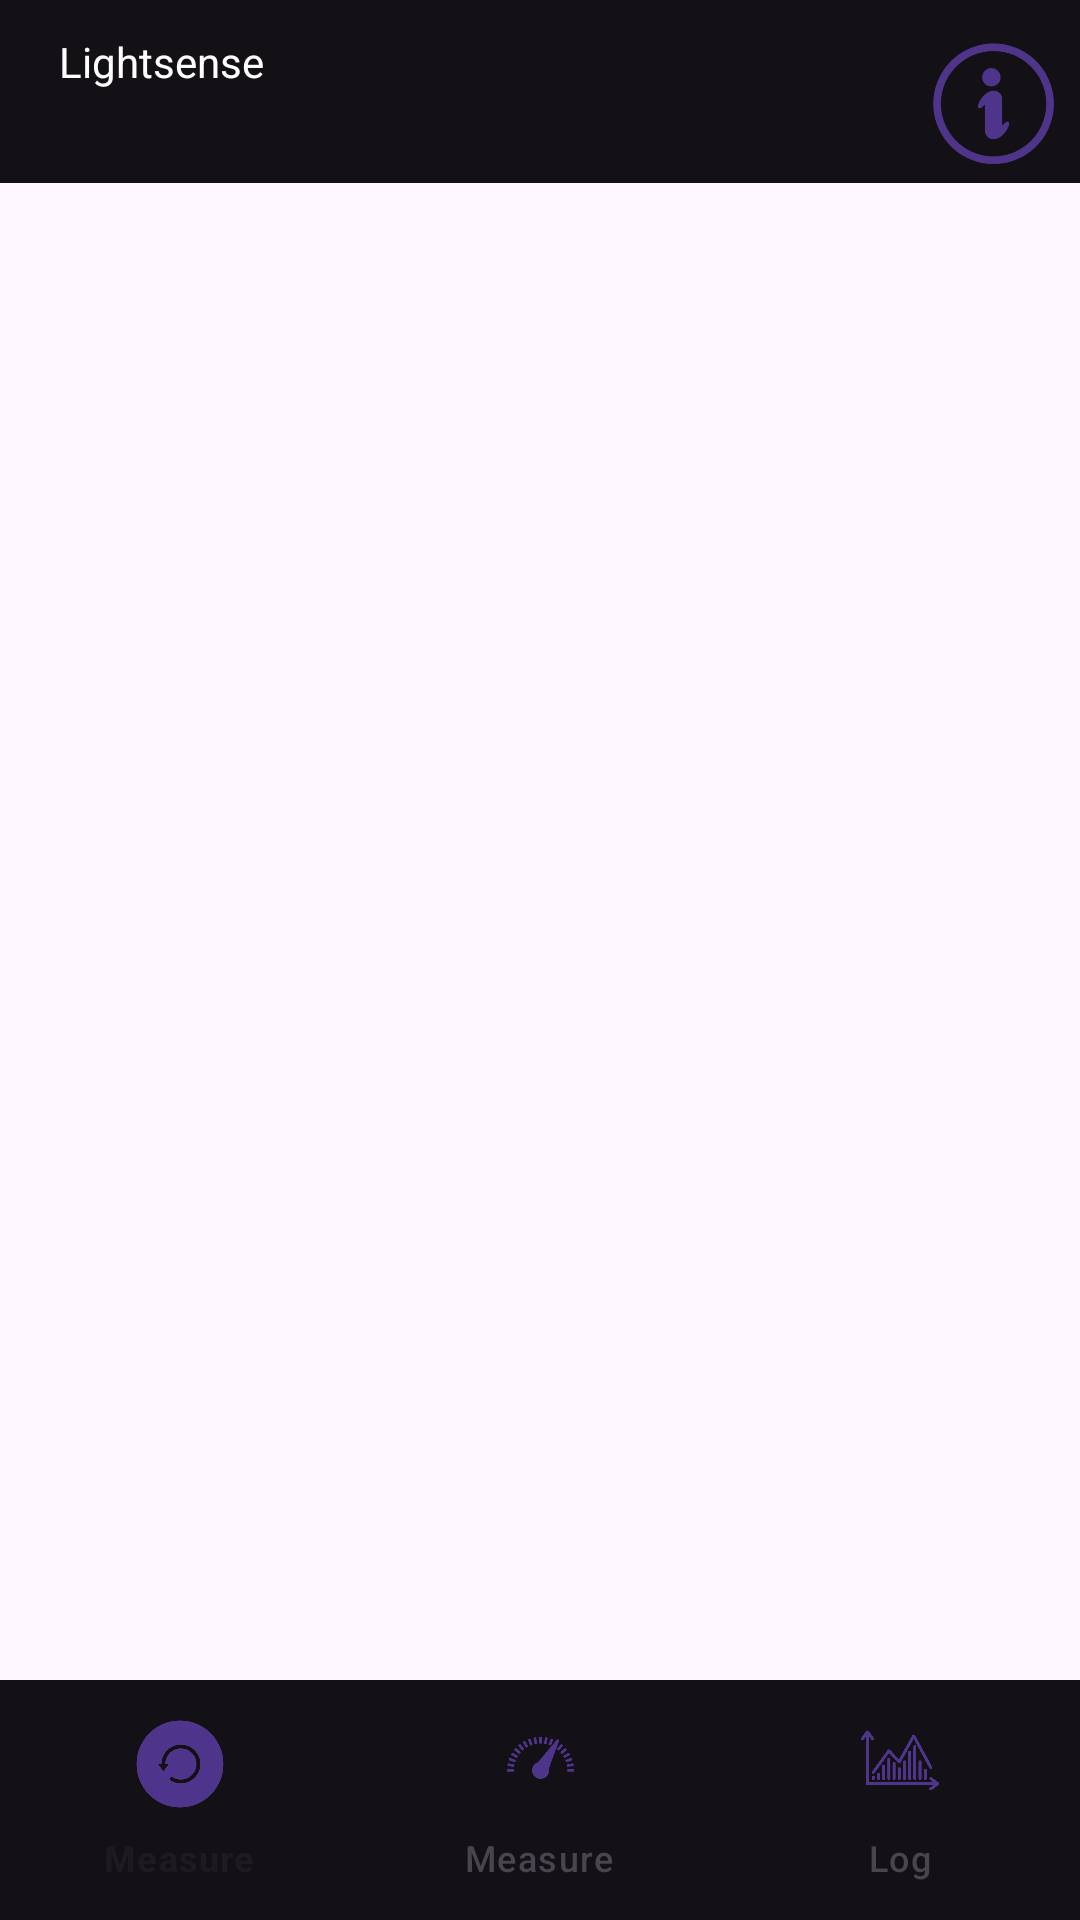

Icon bounding boxes for this 1080px x 1920px phone screenshot, format region(x1, y1, x2, y2):
informationicon: region(933, 43, 1054, 164)
